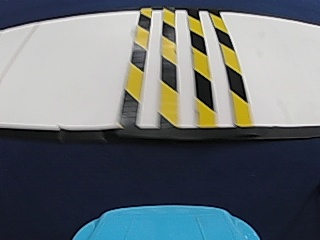bump: (118, 15, 254, 129)
